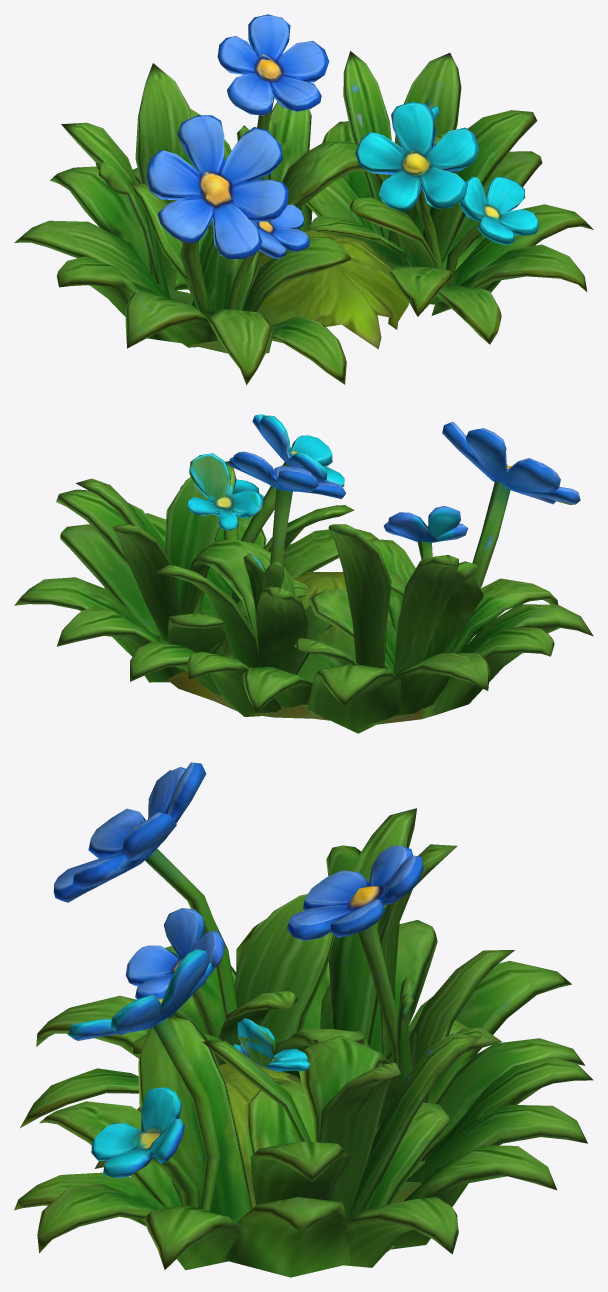
The model's file is s2_r3c4_blue_flower_patch.glb.
3 views of the same model, one above another, from view 1: azimuth 30°, elevation 25°; view 2: azimuth 150°, elevation 25°; view 3: azimuth 270°, elevation 25° (orthographic). The views are drawn at different scales.
Size of the model in its own units: 1 by 0.4949 by 0.7917.
1 material, 1 textured.
